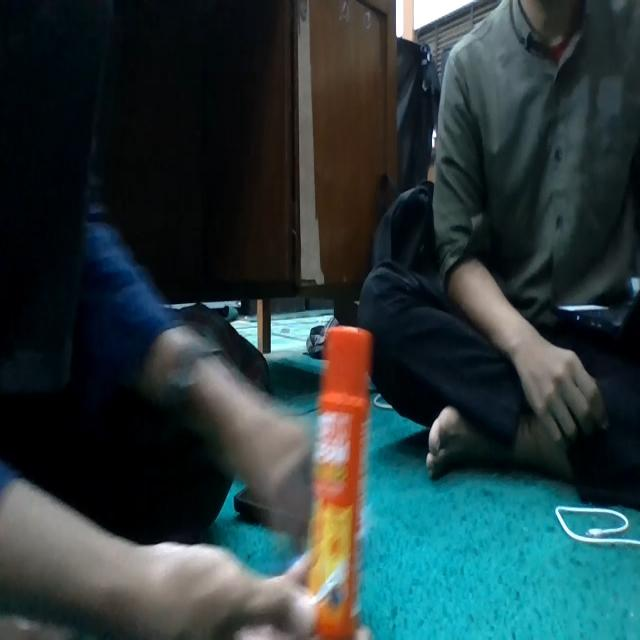Boncabe: (308, 327, 371, 639)
